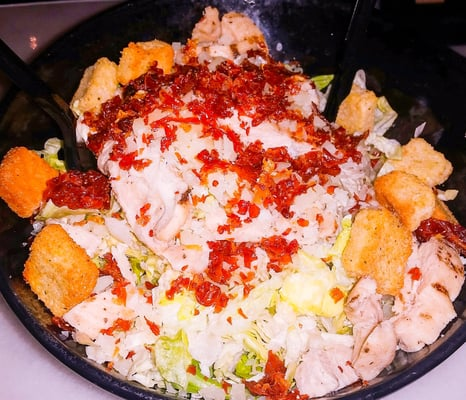sandwich: (2, 16, 464, 395)
